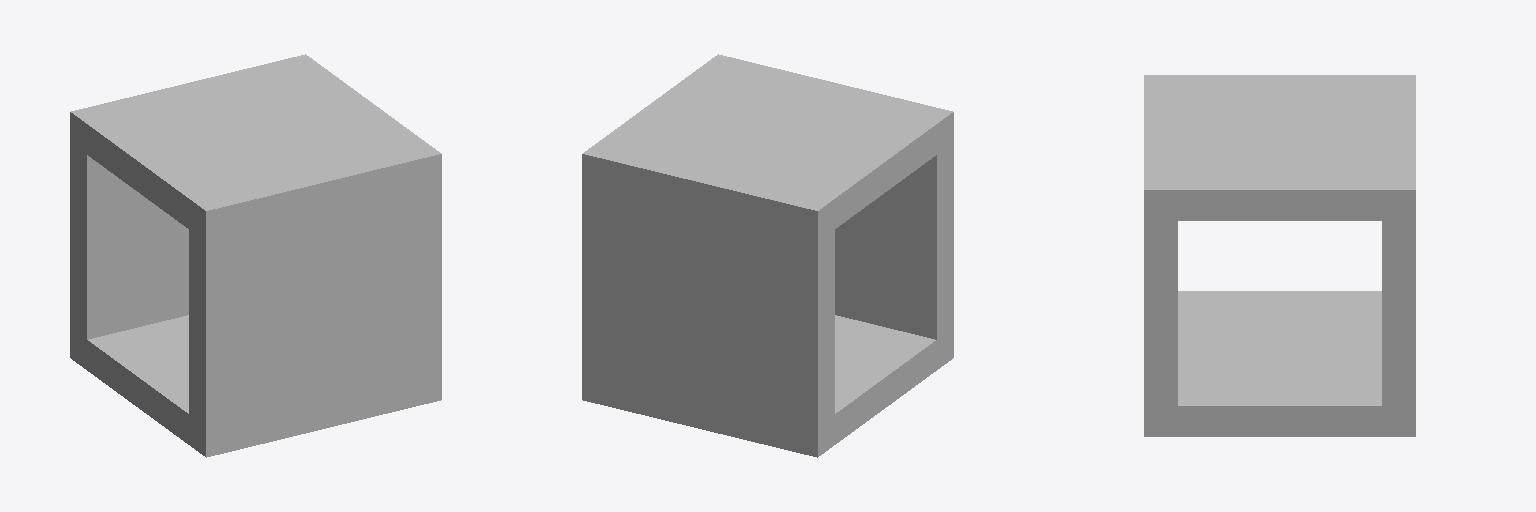
Rendered from PieceI.obj.
3 renders of one model, left to right at view 1: azimuth 30°, elevation 25°; view 2: azimuth 150°, elevation 25°; view 3: azimuth 270°, elevation 25°, orthographic.
Visible parts, largest first — view 1: I-Piece_Cube.003; view 2: I-Piece_Cube.003; view 3: I-Piece_Cube.003.
Boxes of the visible parts, x1,y1,x2,y2 form: I-Piece_Cube.003: [70, 54, 441, 457]; I-Piece_Cube.003: [582, 54, 953, 457]; I-Piece_Cube.003: [1144, 75, 1415, 436].
Size of the model in its own units: 2 by 2 by 2.